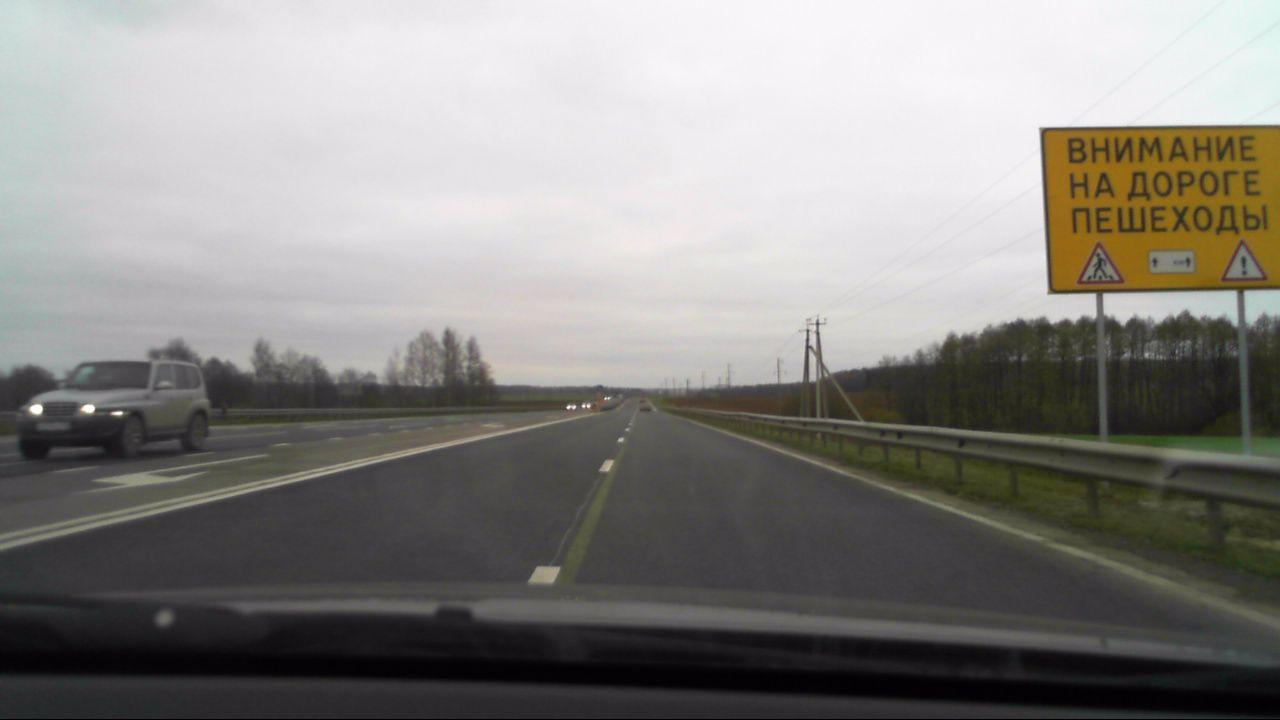1_22: (1072, 240, 1126, 285)
1_33: (1222, 240, 1269, 281)
8_2_1: (1146, 249, 1198, 275)
